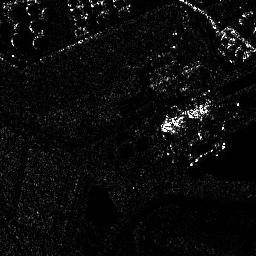ship: (189, 142, 228, 166)
